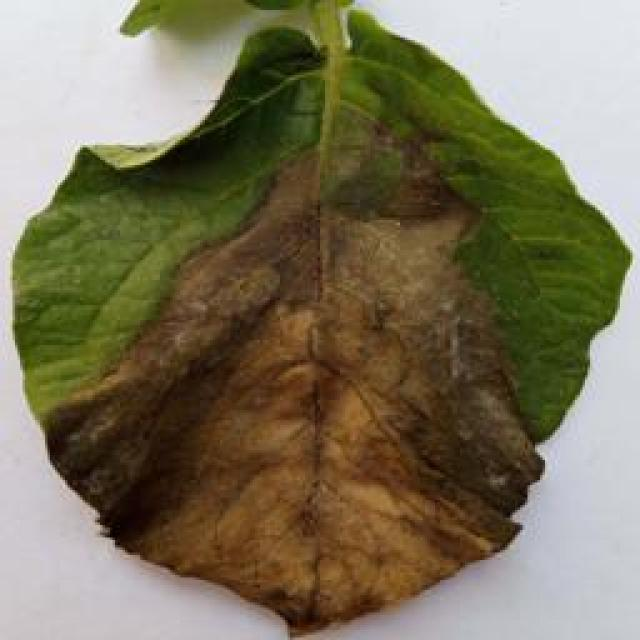Potato_Late_Blight: (2, 11, 630, 637)
